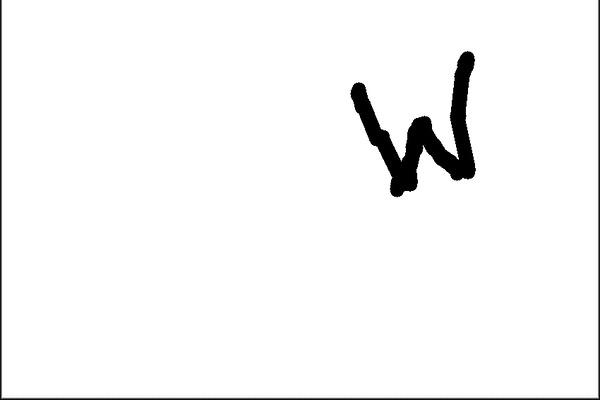w: (316, 42, 505, 215)
